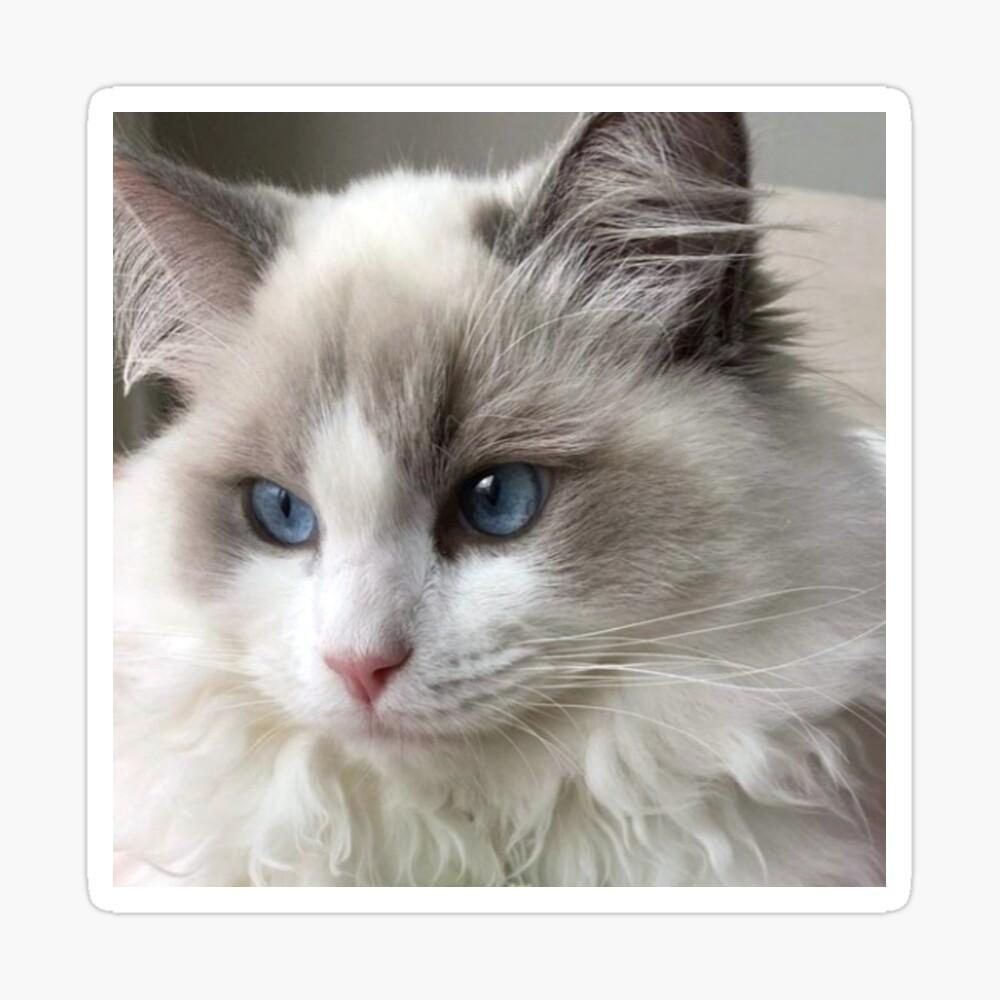ragdoll: (114, 105, 770, 768)
